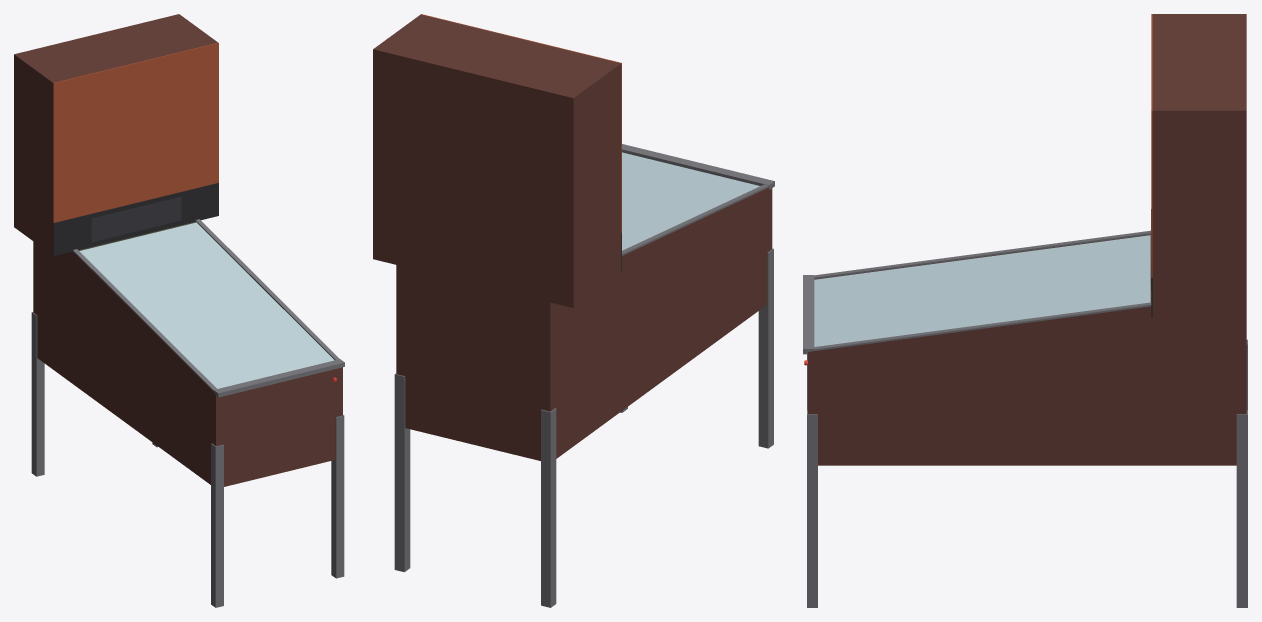
File: dragonwar.glb
3 renders of one model, left to right at view 1: azimuth 30°, elevation 25°; view 2: azimuth 150°, elevation 25°; view 3: azimuth 270°, elevation 25°, orthographic. The views are drawn at different scales.
Visible parts, largest first — view 1: vis_cabinet, vis_head_translite, vis_top_glass, vis_head, vis_legs, vis_head_panel, vis_backbox, vis_lockbar, vis_cabinet_rail_r, vis_cabinet_rail_l; view 2: vis_head, vis_cabinet, vis_legs, vis_top_glass, vis_lockbar, vis_cabinet_rail_l; view 3: vis_cabinet, vis_head, vis_top_glass, vis_legs, vis_cabinet_rail_r, vis_cabinet_rail_l, vis_lockbar.
Boxes of the visible parts, <box> form: vis_cabinet: <box>33,241,342,486</box>; vis_head_translite: <box>53,42,218,222</box>; vis_top_glass: <box>79,222,334,388</box>; vis_head: <box>14,14,217,255</box>; vis_legs: <box>31,312,344,607</box>; vis_head_panel: <box>53,183,218,255</box>; vis_backbox: <box>91,196,181,242</box>; vis_lockbar: <box>213,359,344,397</box>; vis_cabinet_rail_r: <box>195,219,339,360</box>; vis_cabinet_rail_l: <box>73,249,216,391</box>; vis_head: <box>373,14,621,307</box>; vis_cabinet: <box>396,187,772,460</box>; vis_legs: <box>394,248,773,607</box>; vis_top_glass: <box>622,152,760,250</box>; vis_lockbar: <box>622,144,774,189</box>; vis_cabinet_rail_l: <box>622,184,769,255</box>; vis_cabinet: <box>808,234,1246,465</box>; vis_head: <box>1152,14,1246,317</box>; vis_top_glass: <box>814,235,1150,346</box>; vis_legs: <box>807,339,1247,607</box>; vis_cabinet_rail_r: <box>814,302,1151,350</box>; vis_cabinet_rail_l: <box>814,230,1150,279</box>; vis_lockbar: <box>803,275,814,354</box>.
Size of the model in its own units: 0.73 by 1.79 by 1.42.
